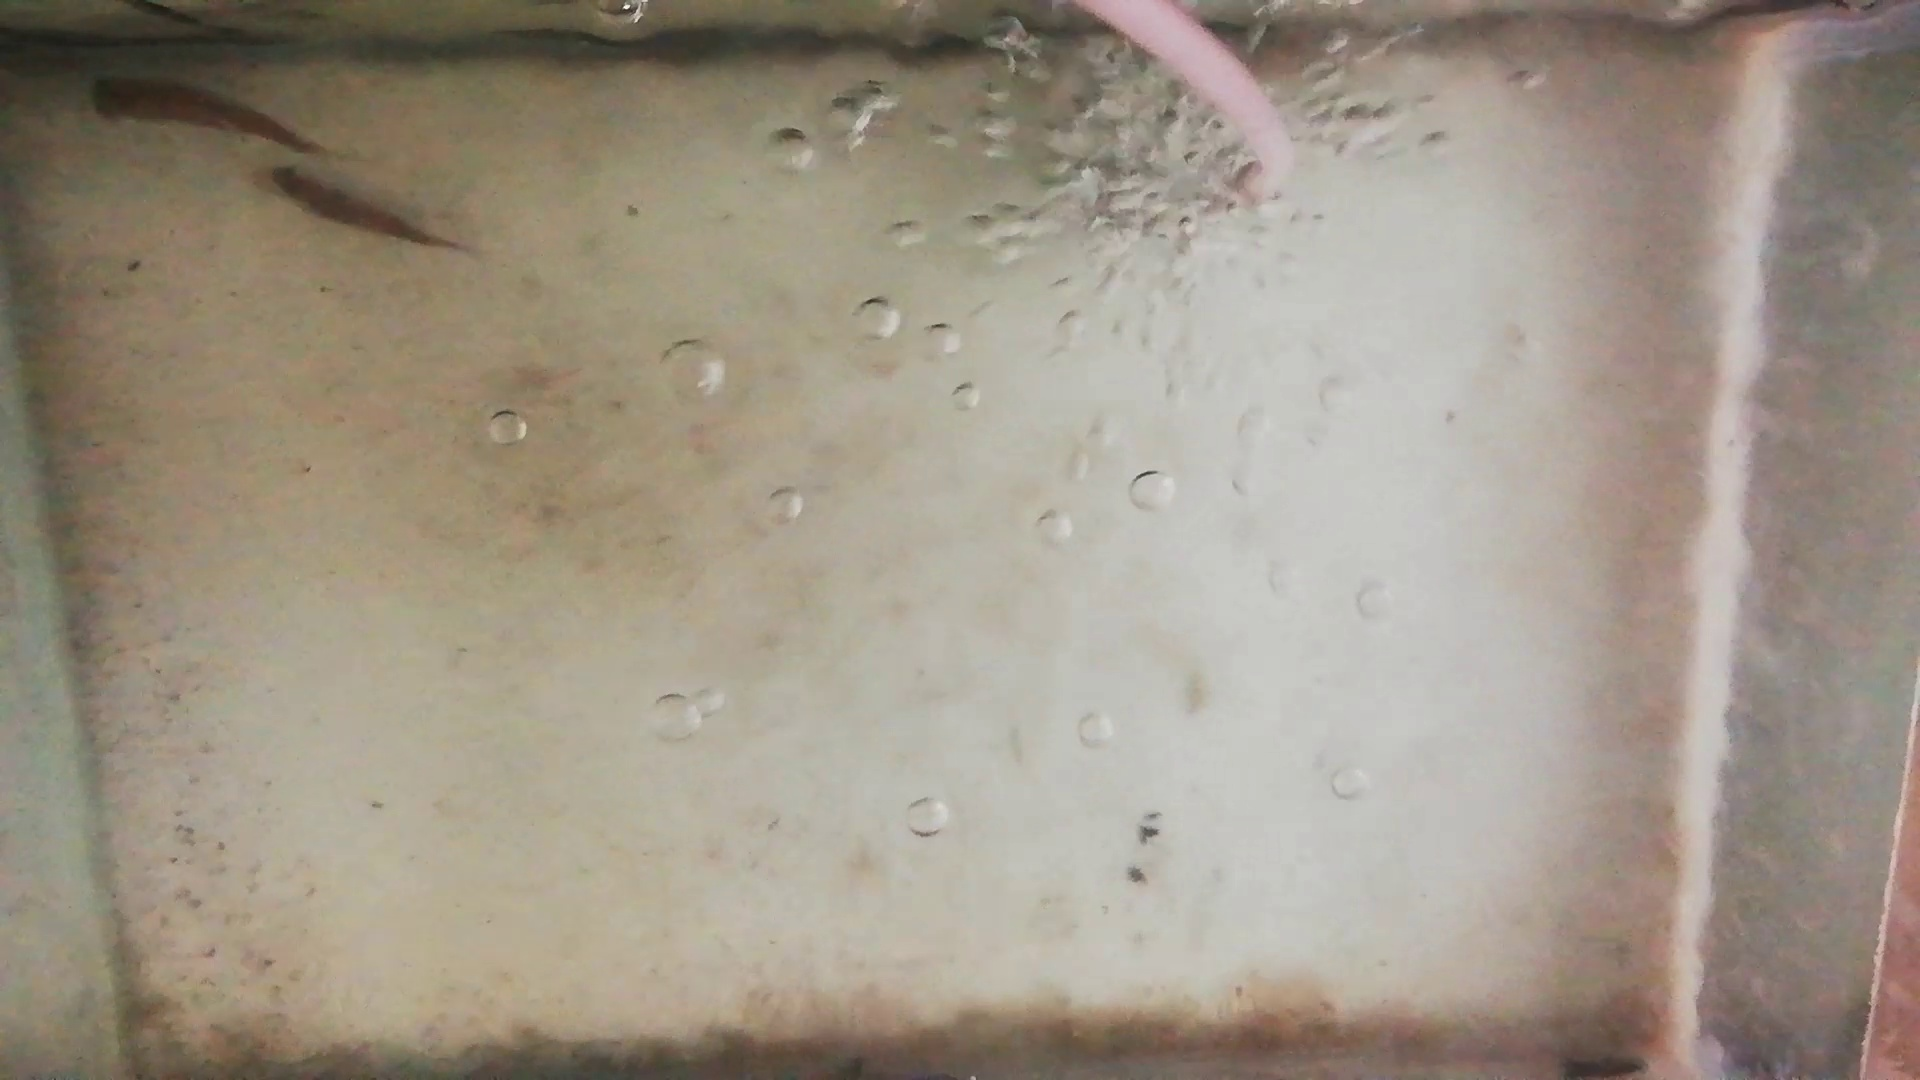fish: (260, 162, 454, 247), (87, 76, 311, 146)
